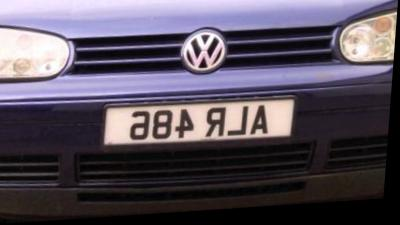License_Plate: (115, 97, 298, 154)
